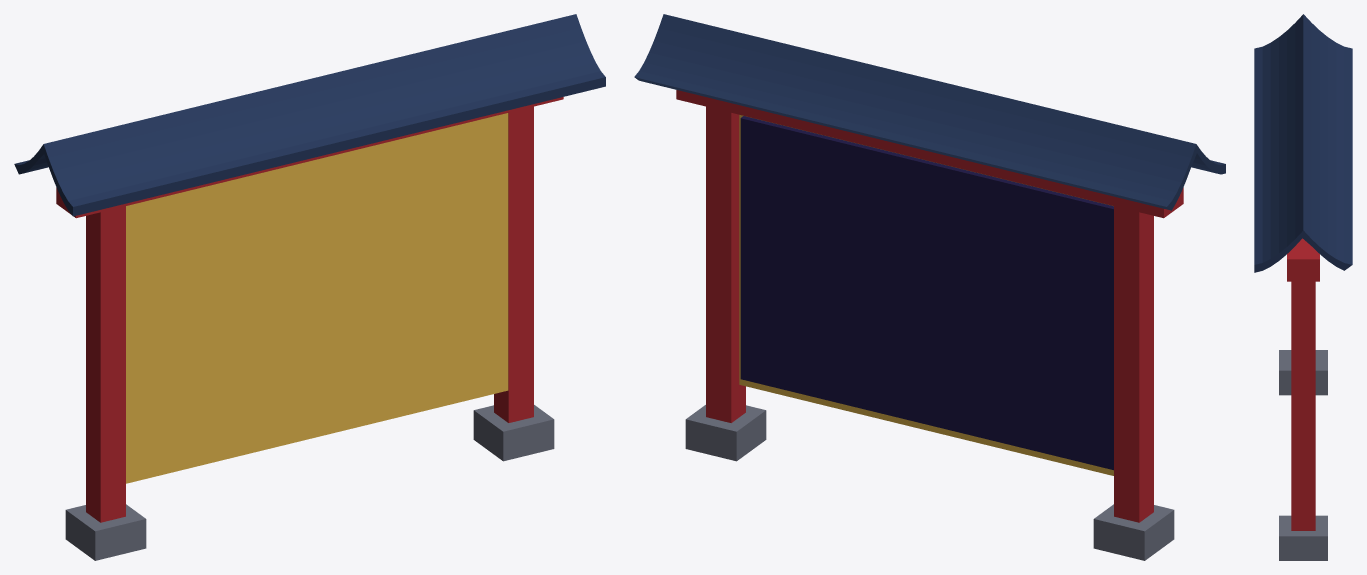
The model's file is board.glb.
The picture shows the model from 3 angles, left to right: view 1: azimuth 30°, elevation 25°; view 2: azimuth 150°, elevation 25°; view 3: azimuth 270°, elevation 25°; orthographic projection. The views are drawn at different scales.
Visible parts, largest first — view 1: Gold_E6B84A, Roof_24365A, Pillar_B3262E, Stone_6B6F7E; view 2: Panel_1E1748, Roof_24365A, Pillar_B3262E, Stone_6B6F7E, Gold_E6B84A; view 3: Roof_24365A, Pillar_B3262E, Stone_6B6F7E.
Boxes of the visible parts, left/top/right/bottom form: Gold_E6B84A: left=126, top=113, right=508, bottom=483; Roof_24365A: left=14, top=14, right=605, bottom=216; Pillar_B3262E: left=56, top=97, right=563, bottom=522; Stone_6B6F7E: left=65, top=405, right=554, bottom=560; Panel_1E1748: left=740, top=116, right=1113, bottom=470; Roof_24365A: left=634, top=14, right=1225, bottom=210; Pillar_B3262E: left=676, top=90, right=1183, bottom=522; Stone_6B6F7E: left=685, top=405, right=1174, bottom=560; Gold_E6B84A: left=739, top=115, right=1113, bottom=475; Roof_24365A: left=1254, top=14, right=1352, bottom=272; Pillar_B3262E: left=1287, top=238, right=1319, bottom=530; Stone_6B6F7E: left=1279, top=350, right=1327, bottom=560.
Bounding box in the file's own units: 33.57 × 25 × 6.43.
